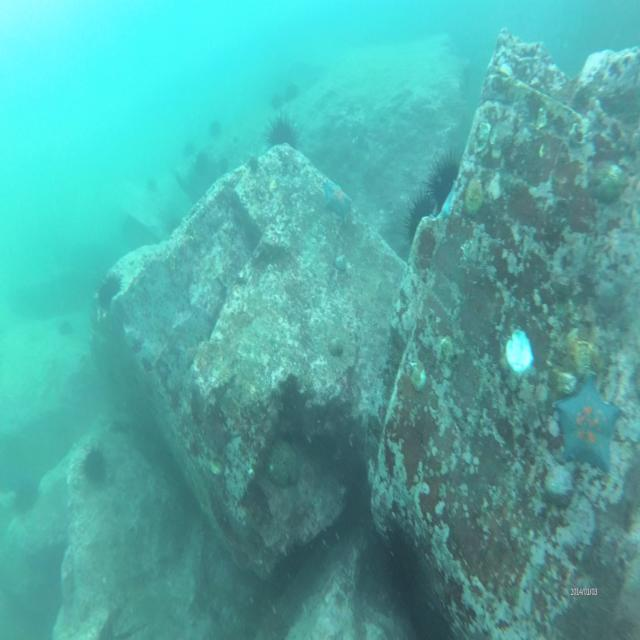echinus: (423, 144, 468, 213), (402, 187, 438, 251), (262, 106, 302, 156), (12, 472, 41, 518), (81, 442, 108, 484), (95, 271, 122, 311), (194, 146, 208, 181), (208, 116, 223, 140), (283, 77, 298, 100)
scallop: (505, 325, 534, 375)
starfish: (555, 368, 625, 478), (321, 176, 352, 220)
